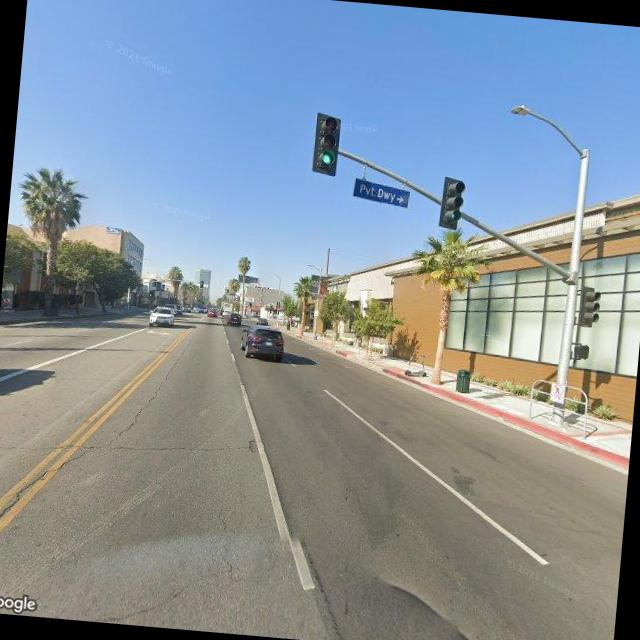crack: (0, 418, 251, 474), (0, 439, 85, 581), (114, 339, 189, 442), (208, 504, 242, 582)
